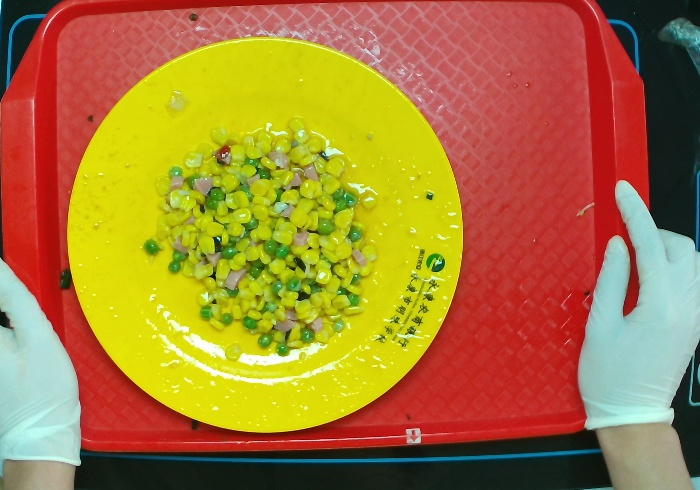YKMZ-Huang_Se_Mian_Pan: (65, 36, 468, 438)
